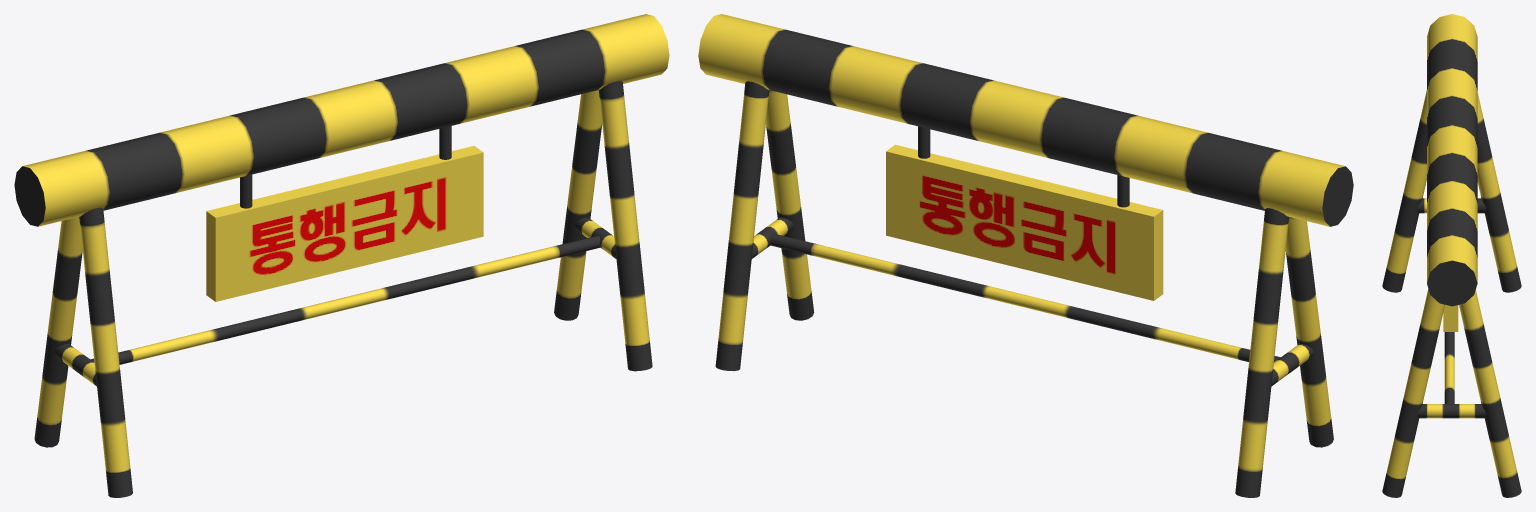
The model's file is Barricade_3.fbx.
The picture shows the model from 3 angles, left to right: view 1: azimuth 30°, elevation 25°; view 2: azimuth 150°, elevation 25°; view 3: azimuth 270°, elevation 25°; orthographic projection. The views are drawn at different scales.
Parts seen in each view (by area): view 1: Barricade_004; view 2: Barricade_004; view 3: Barricade_004.
Part boxes in pixels (<box>): Barricade_004: <box>14,14,669,497</box>; Barricade_004: <box>698,14,1353,497</box>; Barricade_004: <box>1382,14,1521,497</box>.
Size of the model in its own units: 271 by 131 by 64.83.
